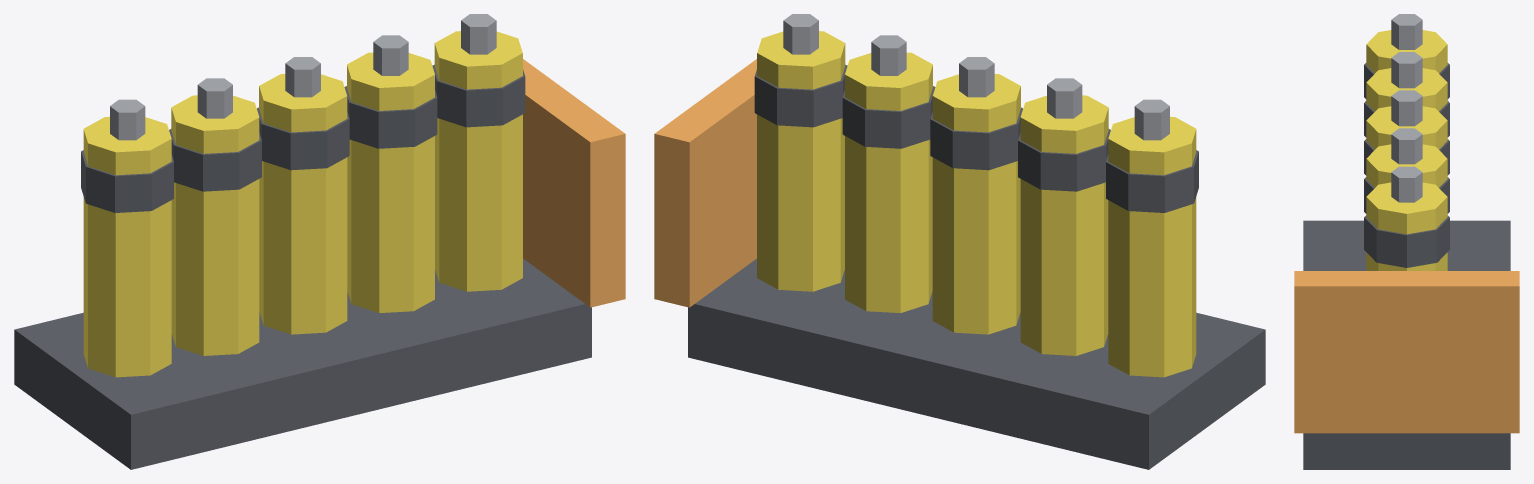
The model's file is battery_big.glb.
The picture shows the model from 3 angles, left to right: view 1: azimuth 30°, elevation 25°; view 2: azimuth 150°, elevation 25°; view 3: azimuth 270°, elevation 25°; orthographic projection. The views are drawn at different scales.
Visible parts, largest first — view 1: battery_big; view 2: battery_big; view 3: battery_big.
Boxes of the visible parts, <box> form: battery_big: <box>14,14,625,469</box>; battery_big: <box>654,14,1265,469</box>; battery_big: <box>1294,14,1519,469</box>.
Size of the model in its own units: 1.12 by 0.67 by 0.5.
